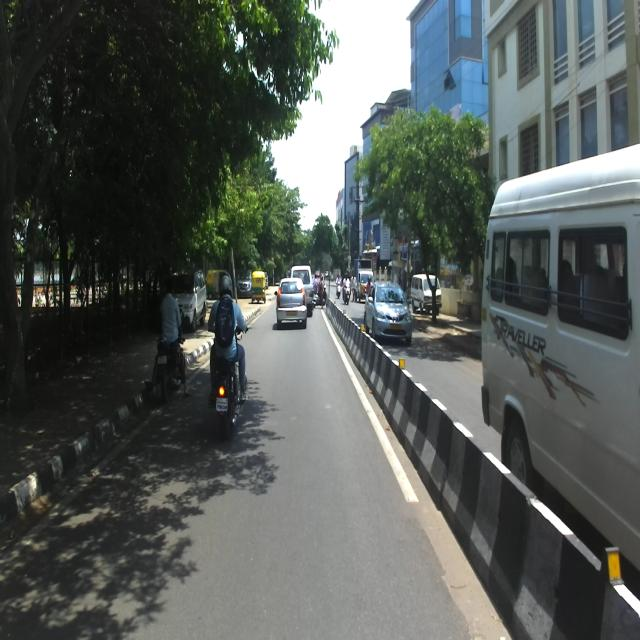car ahead at: (275, 273, 313, 332)
motorcycle ahead at: (202, 347, 250, 437)
